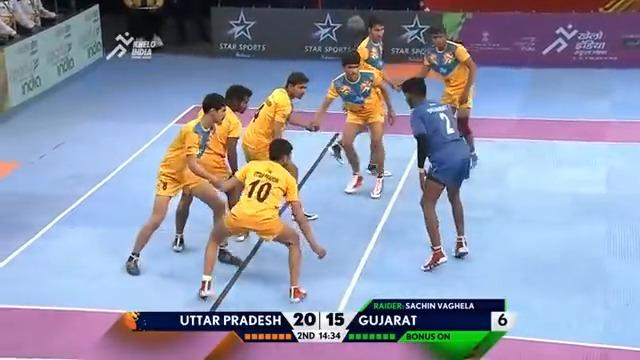Player: (195, 137, 327, 304), (124, 91, 242, 276), (239, 70, 319, 240), (180, 83, 252, 264), (309, 50, 397, 198), (398, 25, 478, 167), (353, 17, 395, 177)
Raider: (397, 76, 473, 272)
